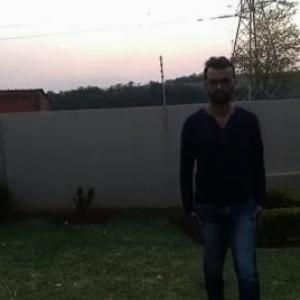follow: (172, 48, 260, 299)
